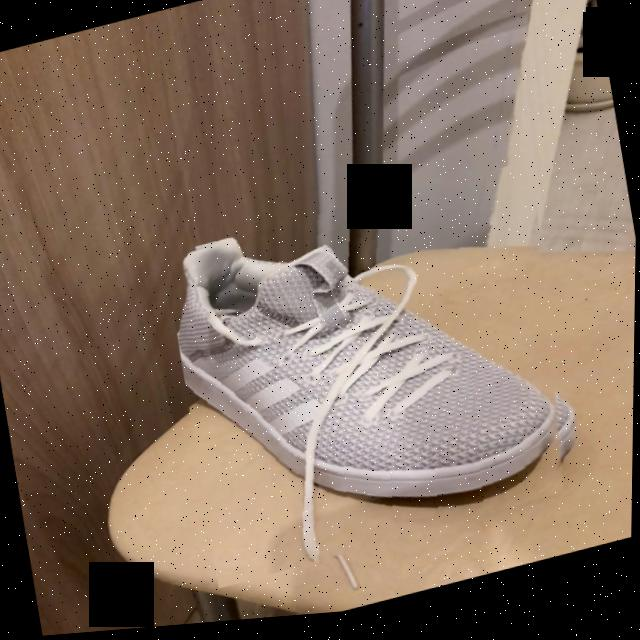shoe: (178, 242, 562, 567)
